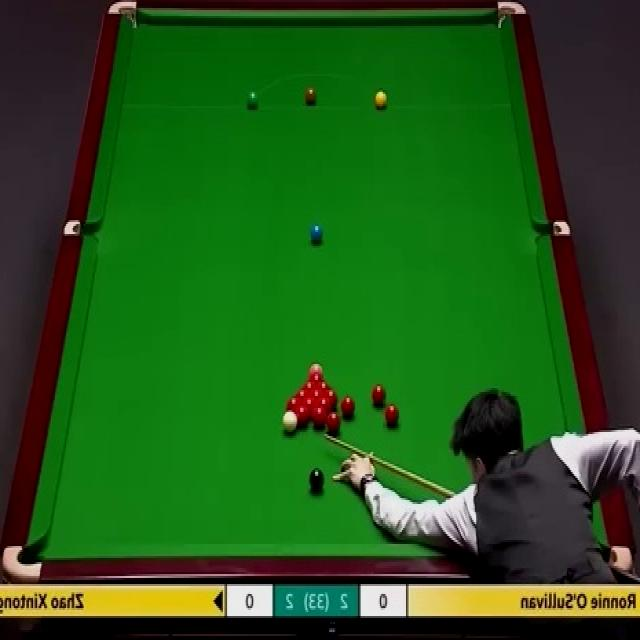black-ball: (309, 466, 325, 493)
blue-ball: (309, 224, 322, 247)
brown-ball: (305, 89, 317, 106)
green-ball: (247, 90, 258, 110)
pink-ball: (308, 360, 324, 376)
red-ball: (368, 382, 388, 408), (311, 404, 327, 428), (326, 412, 342, 435), (285, 396, 302, 416), (293, 407, 309, 428), (385, 403, 400, 425), (340, 396, 355, 417), (316, 397, 331, 412), (302, 398, 315, 415), (300, 382, 318, 392), (293, 389, 309, 400), (308, 372, 325, 382), (308, 390, 324, 400), (317, 382, 333, 391), (324, 390, 337, 401)
white-ball: (283, 409, 298, 434)
yellow-ball: (373, 89, 388, 110)
